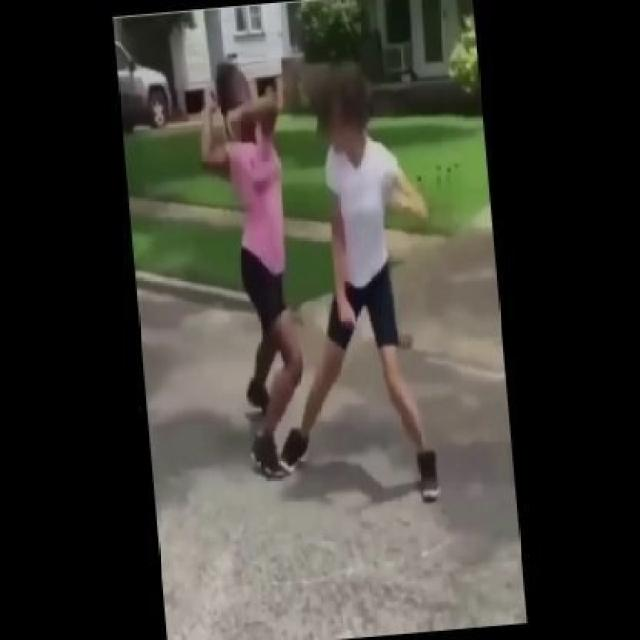fight: (171, 9, 475, 517)
